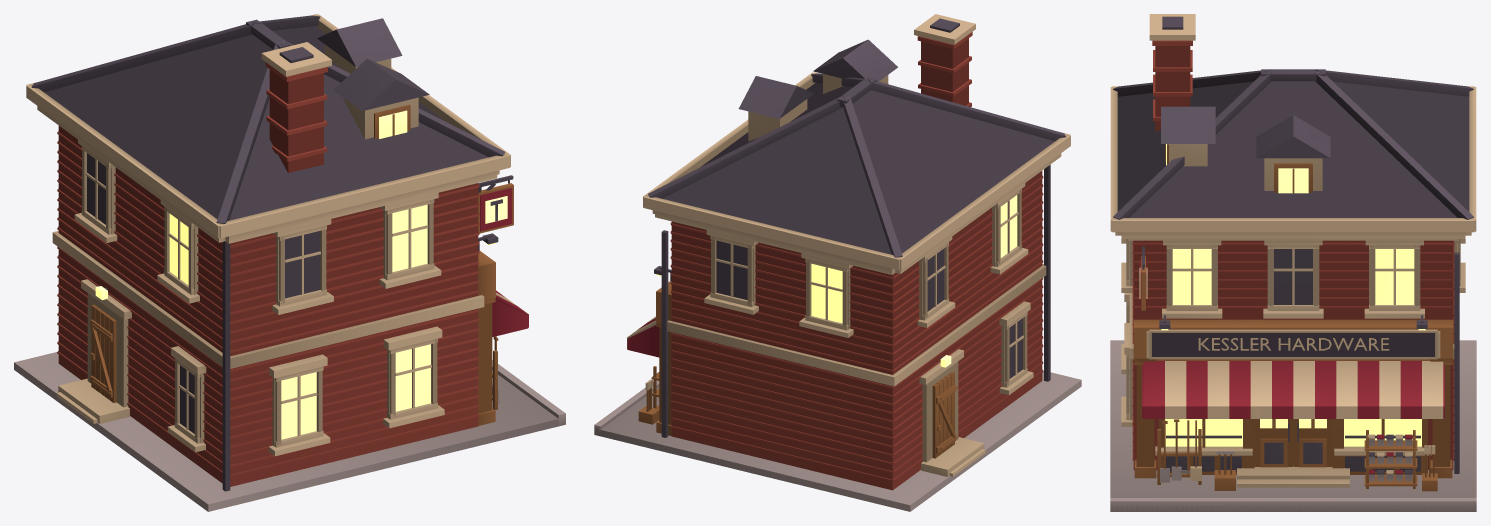
File: bld.kessler-hardware.lod1.glb
3 renders of one model, left to right at view 1: azimuth 30°, elevation 25°; view 2: azimuth 150°, elevation 25°; view 3: azimuth 270°, elevation 25°, orthographic. The views are drawn at different scales.
Parts seen in each view (by area): view 1: body, door_cellar; view 2: body, door_cellar; view 3: body.
Part boxes in pixels (x1,y1,x2,y2): body: (14, 14, 565, 511); door_cellar: (90, 304, 116, 402); body: (594, 14, 1081, 511); door_cellar: (932, 371, 957, 458); body: (1110, 14, 1476, 511).
Size of the model in its own units: 10.08 by 10.8 by 9.4.
